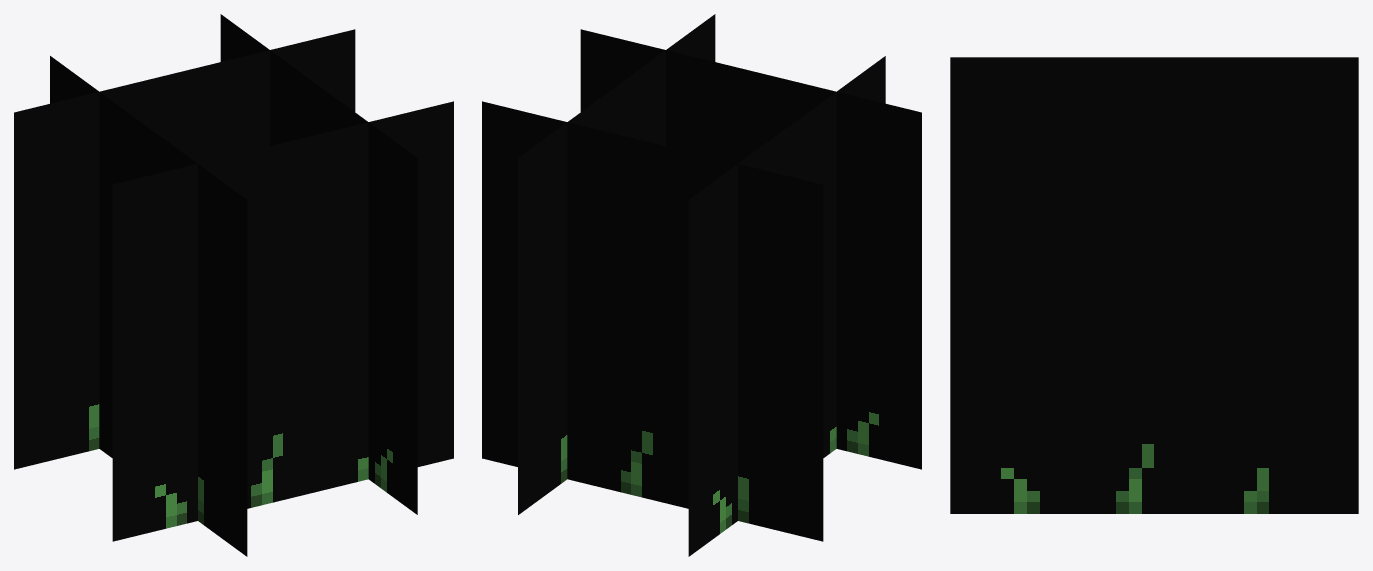
Rendered from block_potatoes_stage0.gltf.
The picture shows the model from 3 angles, left to right: view 1: azimuth 30°, elevation 25°; view 2: azimuth 150°, elevation 25°; view 3: azimuth 270°, elevation 25°; orthographic projection. The views are drawn at different scales.
Parts seen in each view (by area): view 1: cube (×4); view 2: cube (×4); view 3: cube (×2).
Part boxes in pixels (x1=…): cube (×4): x1=14, y1=14, x2=453, y2=556; cube (×4): x1=482, y1=14, x2=921, y2=556; cube (×2): x1=950, y1=57, x2=1358, y2=513.
Bounding box in the file's own units: 1 × 1 × 1.
1 material, 1 textured.
